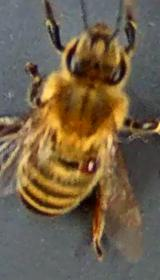varroa_mite: (76, 148, 99, 182)
